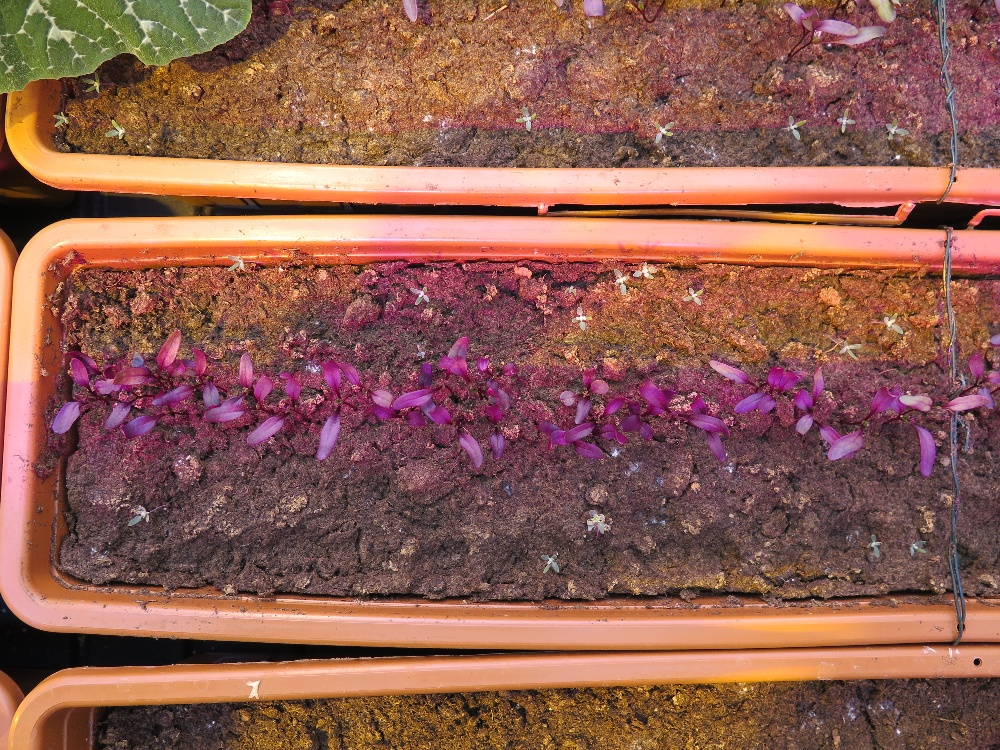crop: (200, 326, 371, 474), (355, 345, 498, 472), (757, 376, 914, 481), (118, 315, 239, 442), (593, 367, 732, 463), (27, 340, 137, 445), (714, 336, 814, 447), (493, 370, 612, 458), (887, 370, 966, 492), (771, 1, 932, 58), (946, 331, 1000, 467), (518, 1, 630, 22), (396, 1, 450, 26)
weed: (802, 311, 868, 367), (868, 299, 921, 354), (577, 506, 632, 549), (882, 111, 921, 163), (632, 106, 675, 151), (123, 497, 166, 542), (402, 281, 443, 326), (507, 90, 543, 136), (559, 297, 598, 338), (600, 263, 637, 304), (900, 531, 937, 572), (673, 276, 716, 311), (825, 99, 859, 138), (530, 549, 566, 581), (212, 251, 255, 276), (637, 254, 666, 290), (780, 106, 805, 147), (864, 522, 889, 556)
